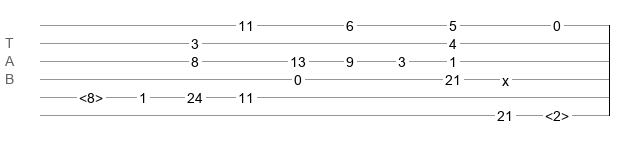0: (294, 72, 302, 82), (553, 18, 561, 28)
1: (139, 90, 147, 100), (449, 54, 457, 64)
11: (238, 90, 254, 100), (238, 18, 254, 28)
13: (290, 54, 306, 64)
21: (445, 72, 461, 82), (497, 108, 513, 118)
24: (187, 90, 203, 100)
3: (191, 36, 199, 46), (398, 54, 406, 64)
4: (449, 36, 457, 46)
5: (449, 18, 457, 28)
6: (346, 18, 354, 28)
8: (191, 54, 199, 64)
9: (346, 54, 354, 64)
harmonic: (79, 90, 103, 100), (545, 108, 569, 118)
x: (502, 73, 509, 81)
